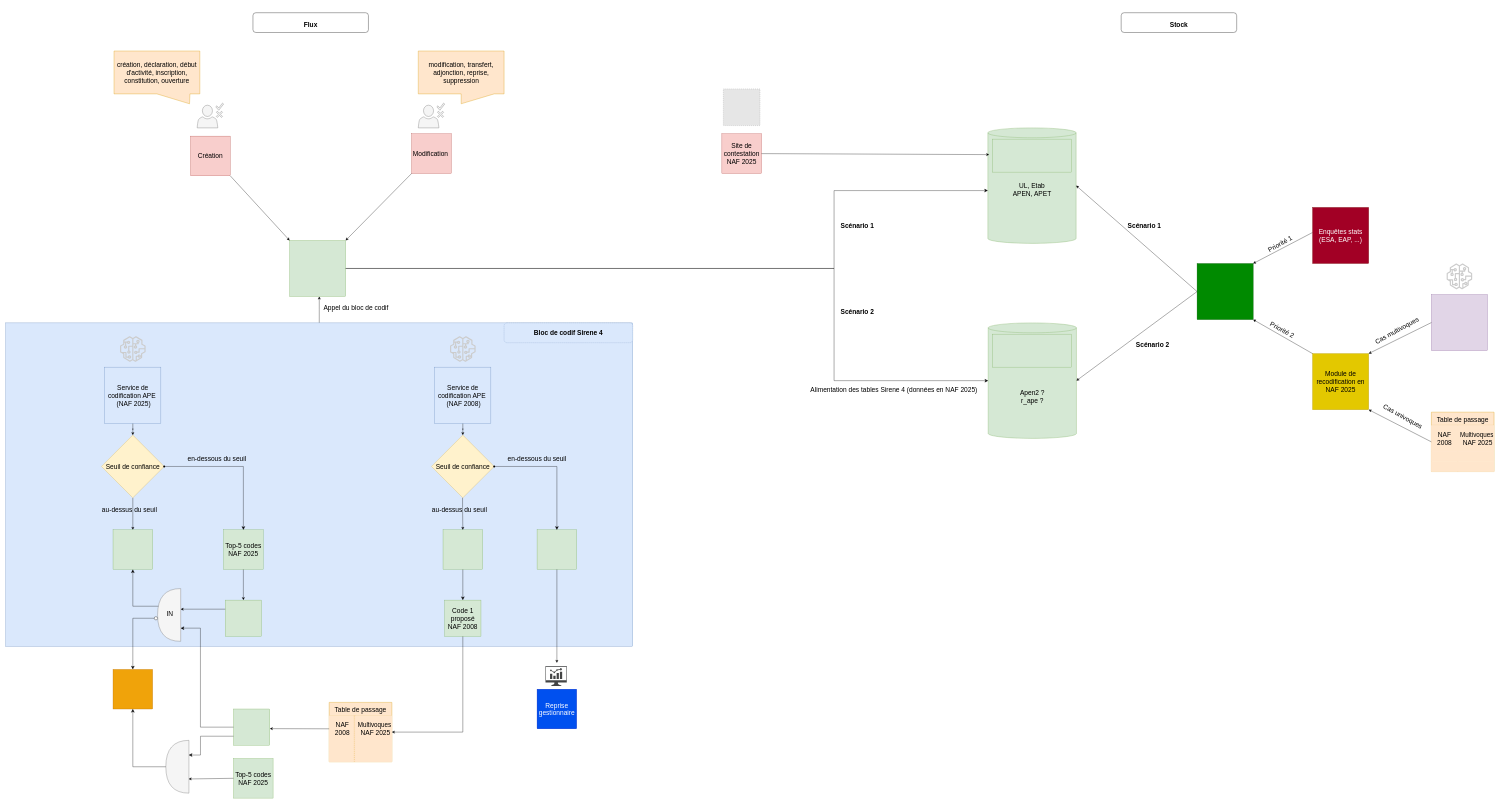
The diagram is 1501 pixels wide and 804 high, and some of its shapes have lost their labels. Grey dashed boxes stand in for pictures. Here are the shapes that lost their labels. From the top down, the box of each, then its label:
(992, 139, 1072, 172): Bdd externe à S4
(289, 240, 346, 297): Workflow Sirene 4
(1197, 263, 1253, 320): Batch de révision en NAF2025
(1431, 294, 1487, 351): Modèle de codification APE (NAF 2025)
(992, 334, 1072, 367): Stock Sirene 4
(113, 529, 153, 569): Codification automatique NAF2025
(443, 529, 483, 569): Codification automatique NAF2008
(537, 529, 577, 569): Top-5 codes NAF 2008
(225, 600, 262, 636): Code 1 proposé NAF 2025
(113, 669, 153, 709): Opération Qualité
(233, 709, 270, 745): Multivoques NAF 2025 du code 1 proposé NAF 2008
